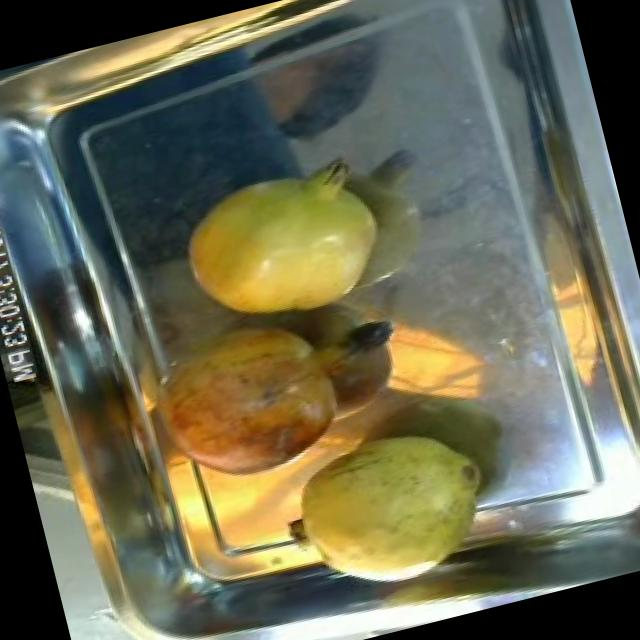fruit: (154, 136, 411, 349), (258, 404, 514, 610), (128, 296, 372, 506)
